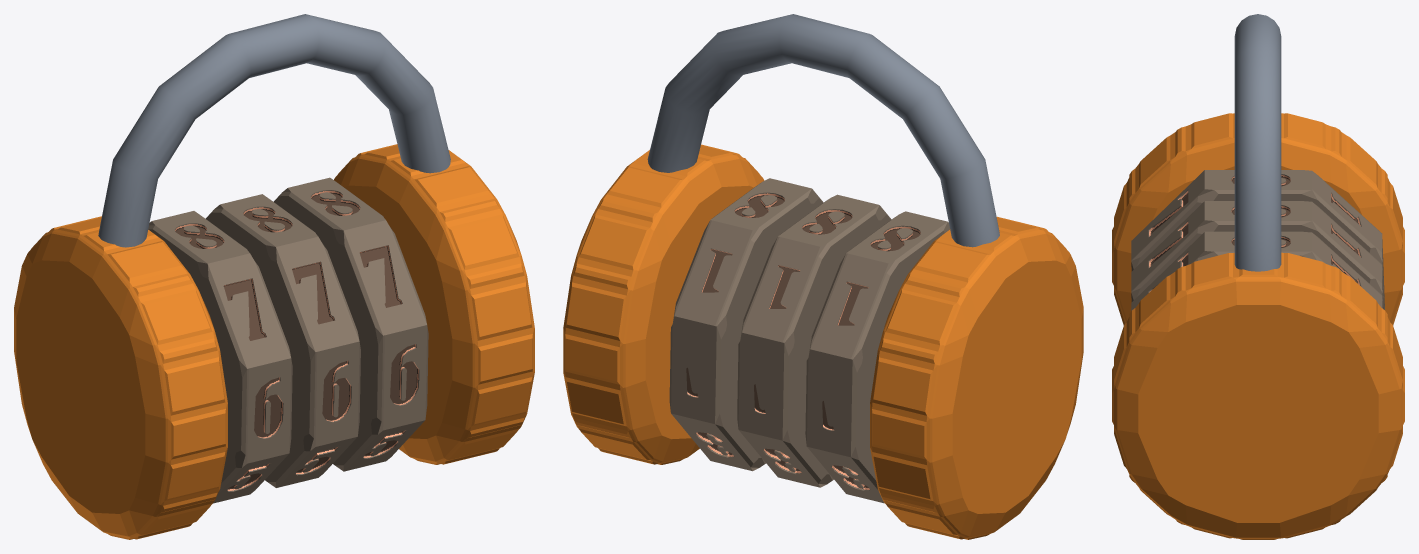
Rendered from combinationlock.fbx.
3 renders of one model, left to right at view 1: azimuth 30°, elevation 25°; view 2: azimuth 150°, elevation 25°; view 3: azimuth 270°, elevation 25°, orthographic. The views are drawn at different scales.
Parts seen in each view (by area): view 1: Lock, Wheel.002, Wheel.003, Wheel.001; view 2: Lock, Wheel.002, Wheel.003, Wheel.001; view 3: Lock, Wheel.001, Wheel.002, Wheel.003.
Boxes of the visible parts, box(x1,y1,x2,y2) form: Lock: box(14, 14, 534, 539); Wheel.002: box(205, 194, 360, 487); Wheel.003: box(273, 177, 428, 471); Wheel.001: box(148, 211, 292, 503); Lock: box(563, 14, 1083, 539); Wheel.002: box(737, 194, 891, 487); Wheel.003: box(669, 178, 823, 471); Wheel.001: box(805, 211, 949, 503); Lock: box(1112, 14, 1404, 539); Wheel.001: box(1131, 170, 1384, 309); Wheel.002: box(1131, 201, 1383, 309); Wheel.003: box(1131, 231, 1382, 310).
Bounding box in the file's own units: 438 × 495 × 308.
Materials: 3 (3 with a texture image).
